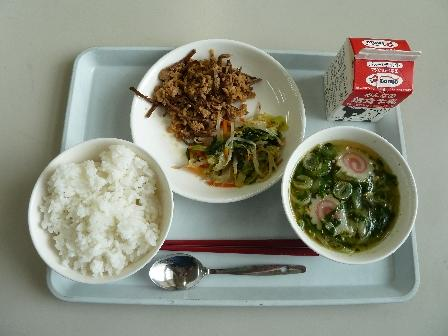Milk: (321, 35, 420, 128)
Rice: (26, 145, 169, 277)
Soups: (282, 134, 418, 258)
cooked food based on meat: (129, 48, 262, 144)
salad with sauce: (172, 102, 288, 189)
